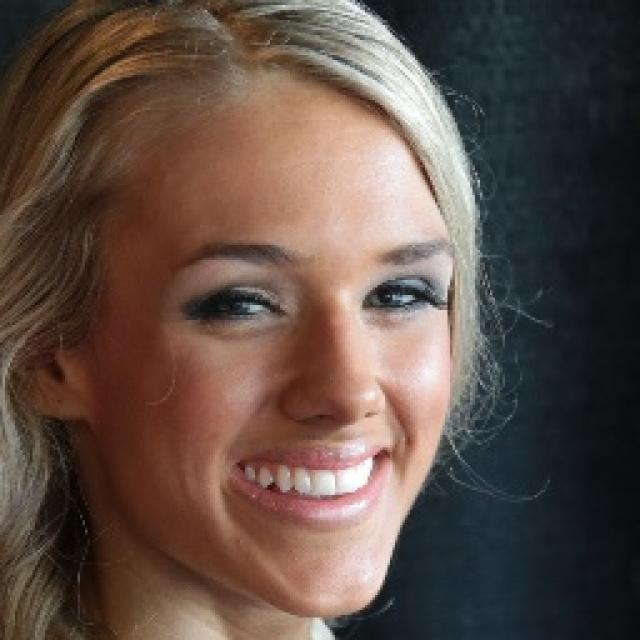earlobe: (0, 276, 96, 424)
